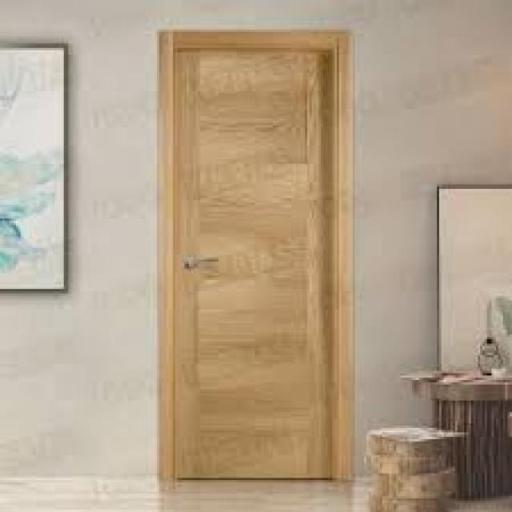door: (162, 28, 352, 482)
